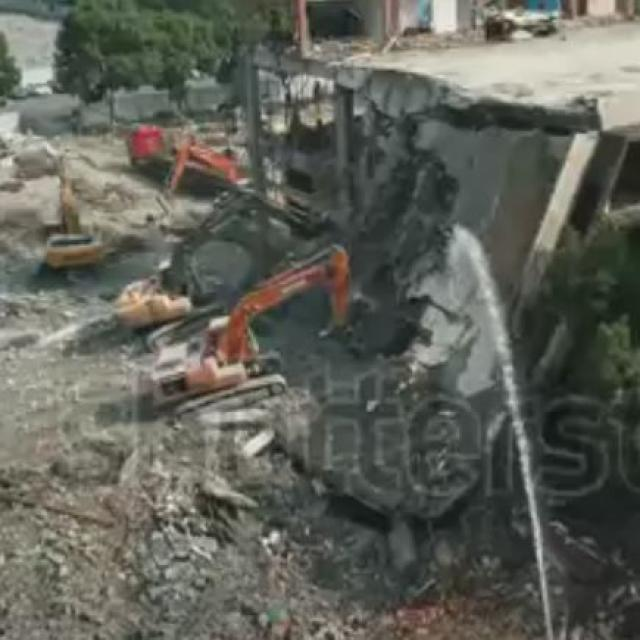collapsed_building: (247, 46, 603, 494)
